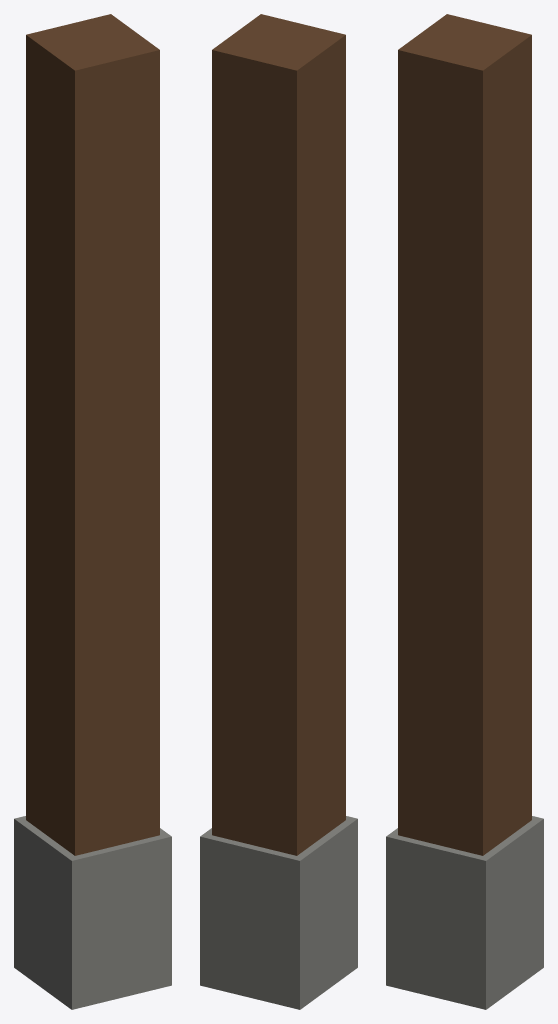
File: Post.fbx
3 views of the same model, side by side, from view 1: azimuth 30°, elevation 25°; view 2: azimuth 150°, elevation 25°; view 3: azimuth 330°, elevation 25° (orthographic).
Visible parts, largest first — view 1: Kit_Post; view 2: Kit_Post; view 3: Kit_Post.
Part boxes in pixels (box(x1,y1,x2,y2)): Kit_Post: box(14, 14, 171, 1009); Kit_Post: box(200, 14, 357, 1009); Kit_Post: box(386, 14, 543, 1009).
Size of the model in its own units: 0.26 by 2.32 by 0.26.
